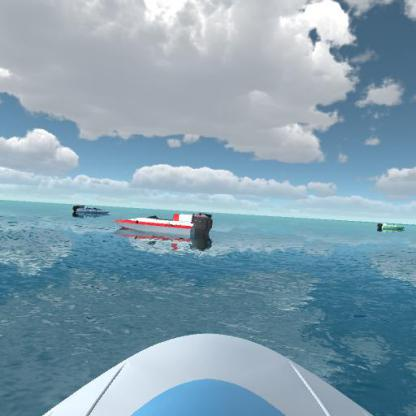usv0: (375, 218, 410, 237)
usv1: (71, 200, 111, 219)
usv3: (114, 213, 215, 252), (187, 208, 215, 222)
